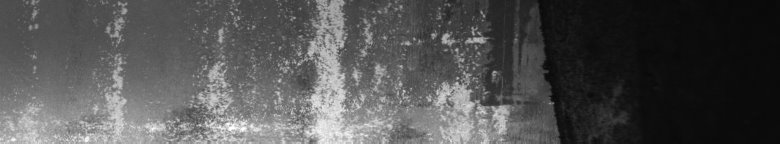kb: (106, 4, 521, 136)
